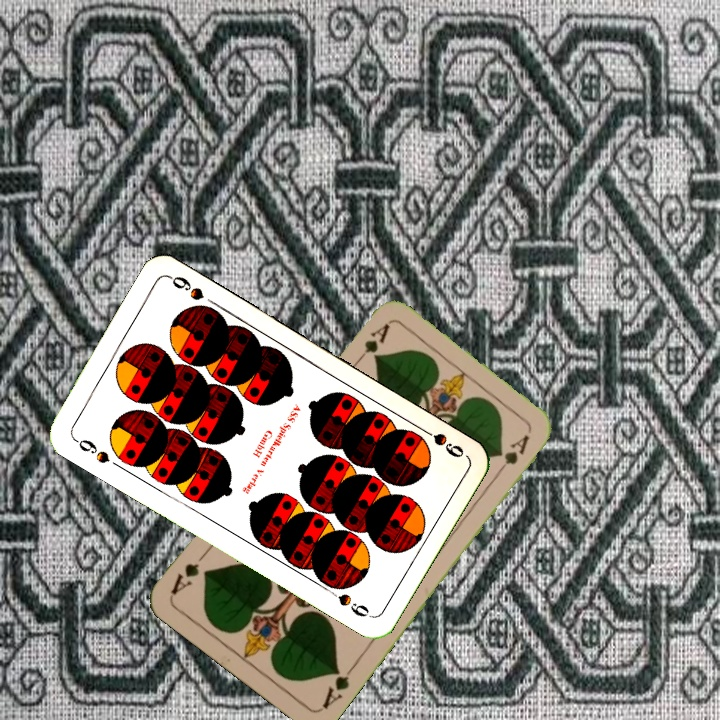GA: (348, 319, 392, 370), (318, 660, 359, 712)
S9: (414, 422, 467, 461), (69, 434, 112, 466)
